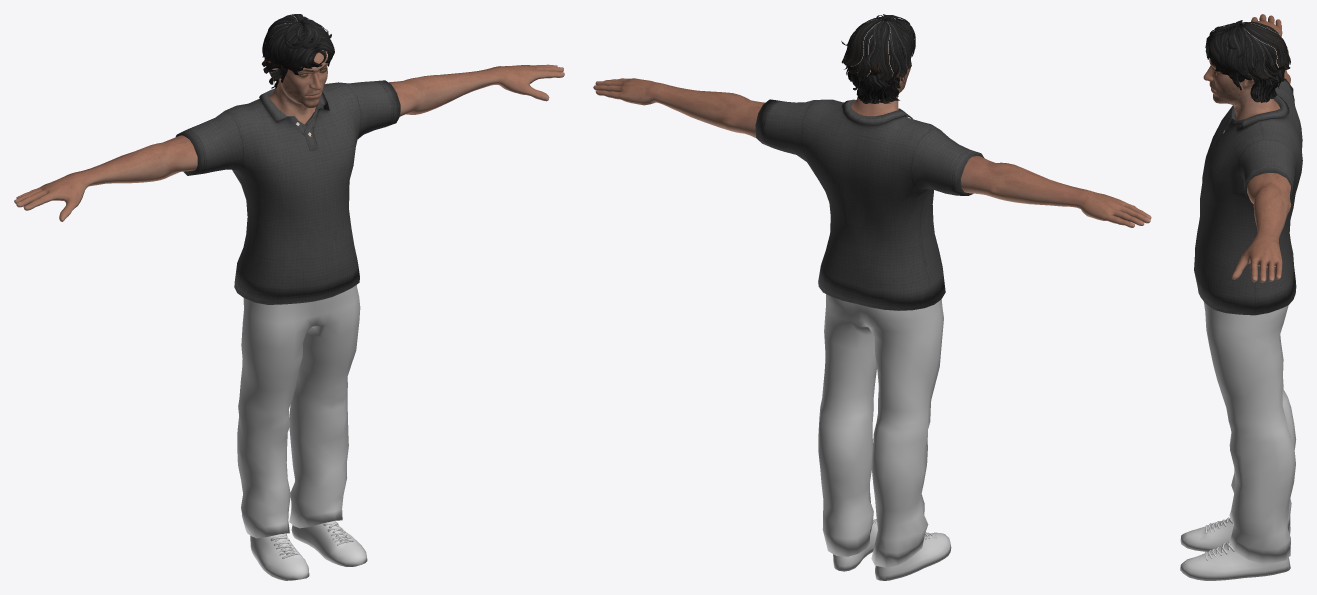
File: Boy Game.obj
3 views of the same model, side by side, from view 1: azimuth 30°, elevation 25°; view 2: azimuth 150°, elevation 25°; view 3: azimuth 270°, elevation 25° (orthographic).
Visible parts, largest first — view 1: Tops, Bottoms, Body, Shoes, Hair; view 2: Tops, Bottoms, Body, Hair, Shoes; view 3: Bottoms, Tops, Body, Hair, Shoes.
Boxes of the visible parts, x1,y1,x2,y2 form: Tops: (175,80,400,304); Bottoms: (237,285,360,538); Body: (14,51,564,221); Shoes: (250,520,367,580); Hair: (262,14,334,88); Tops: (755,99,984,310); Bottoms: (818,294,943,567); Body: (593,61,1151,227); Hair: (841,14,915,103); Shoes: (833,519,951,580); Bottoms: (1203,301,1296,563); Tops: (1194,78,1302,315); Body: (1203,14,1291,282); Hair: (1205,20,1290,102); Shoes: (1180,517,1290,580).
Size of the model in its own units: 194 by 181 by 37.5.
